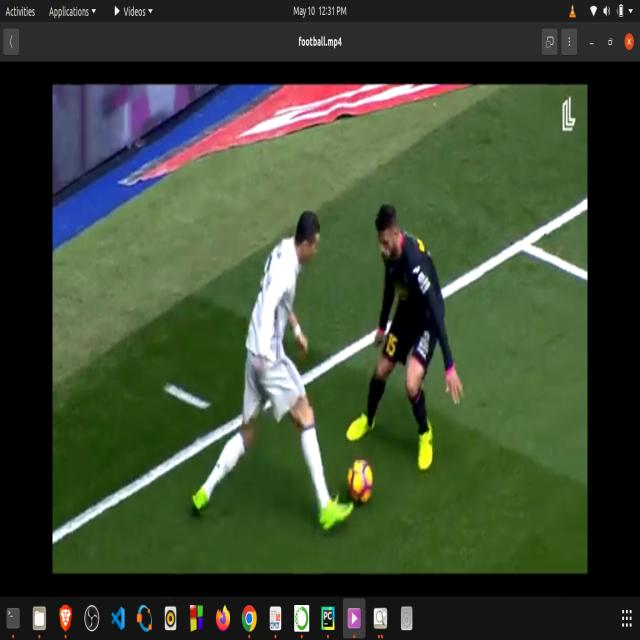Ball: (342, 452, 376, 510)
football-players: (188, 185, 348, 530), (348, 200, 468, 486)
